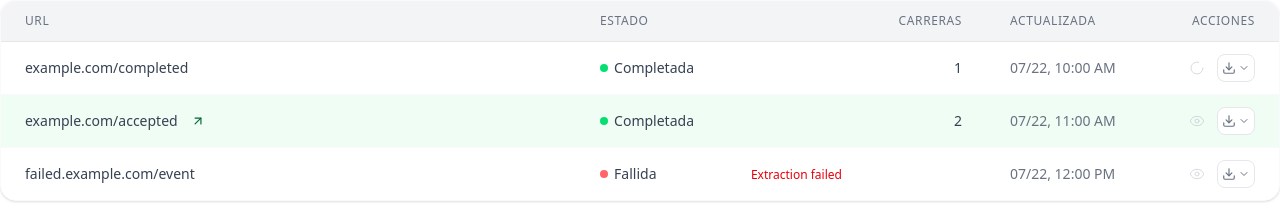
Scenario: BulkProcessTable › keeps preview separate from the download menu and reflects loading availability
The image size is (1280, 219).
Expected: the button titled "Cargando..." is disabled, [1181,52,1213,84]
Expected: the icon with class "animate-spin" is shown, [1189,60,1205,76]
Click the button named "Acciones" in the row of "example.com/completed" at (1236, 68), box [1217,54,1255,82]
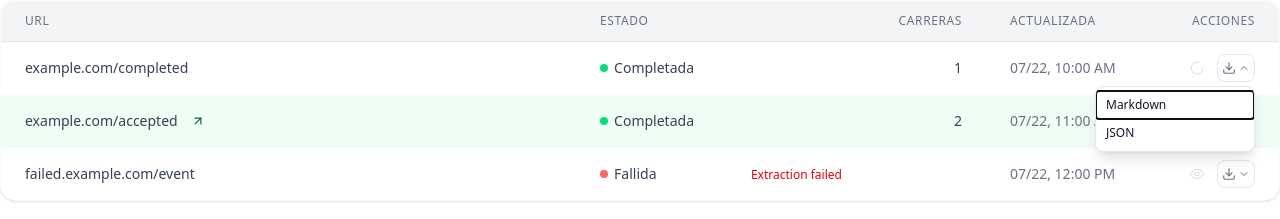
Expected: the menu item "Markdown" is shown, [1096,91,1254,119]
Expected: the menu item "JSON" is shown, [1096,119,1254,147]
